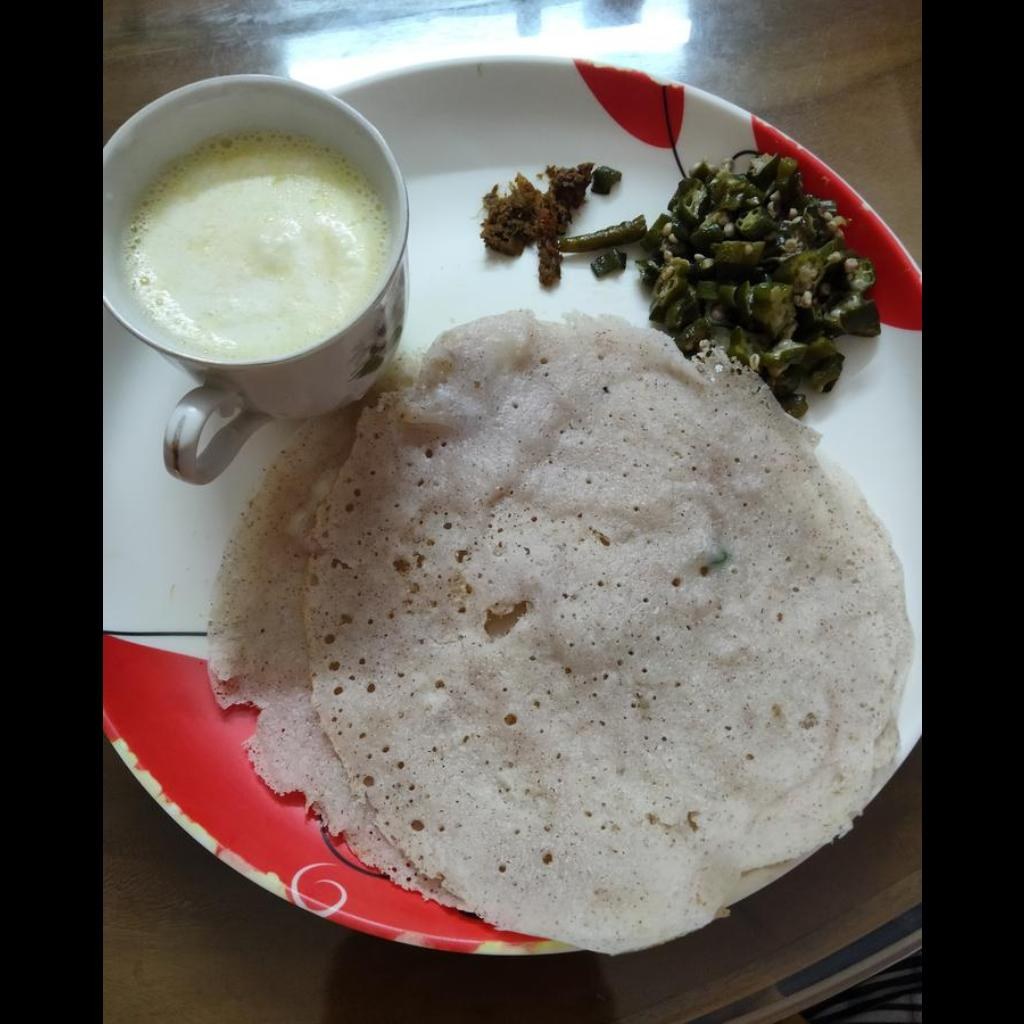milk: (123, 139, 394, 359)
okra: (643, 152, 876, 399)
ruti: (216, 312, 906, 960)
